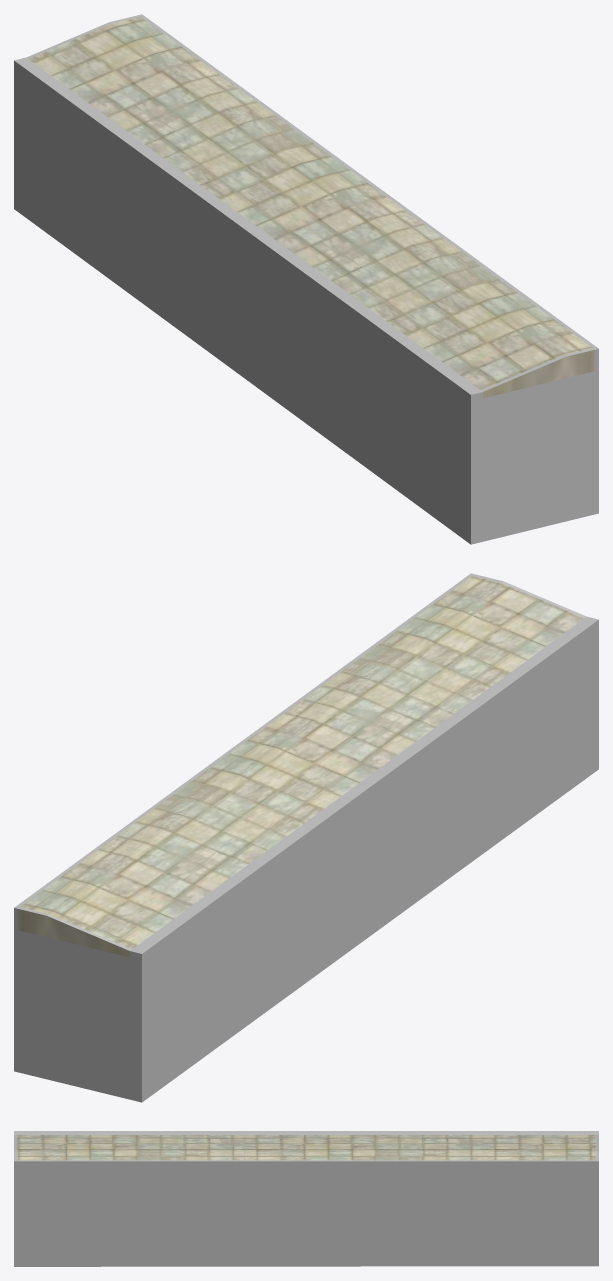
Rendered from road_02b_t02hedge.fbx.
3 renders of one model, top to bottom at view 1: azimuth 30°, elevation 25°; view 2: azimuth 150°, elevation 25°; view 3: azimuth 270°, elevation 25°, orthographic. The views are drawn at different scales.
Parts seen in each view (by area): view 1: road_02b_t02hedge; view 2: road_02b_t02hedge; view 3: road_02b_t02hedge.
Part boxes in pixels (box(x1,y1,x2,y2)): road_02b_t02hedge: box(14, 14, 598, 544); road_02b_t02hedge: box(14, 573, 598, 1102); road_02b_t02hedge: box(14, 1131, 598, 1266).
Bounding box in the file's own units: 1.79 × 2.2 × 11.06.
